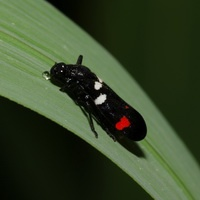insect: (42, 55, 146, 140)
